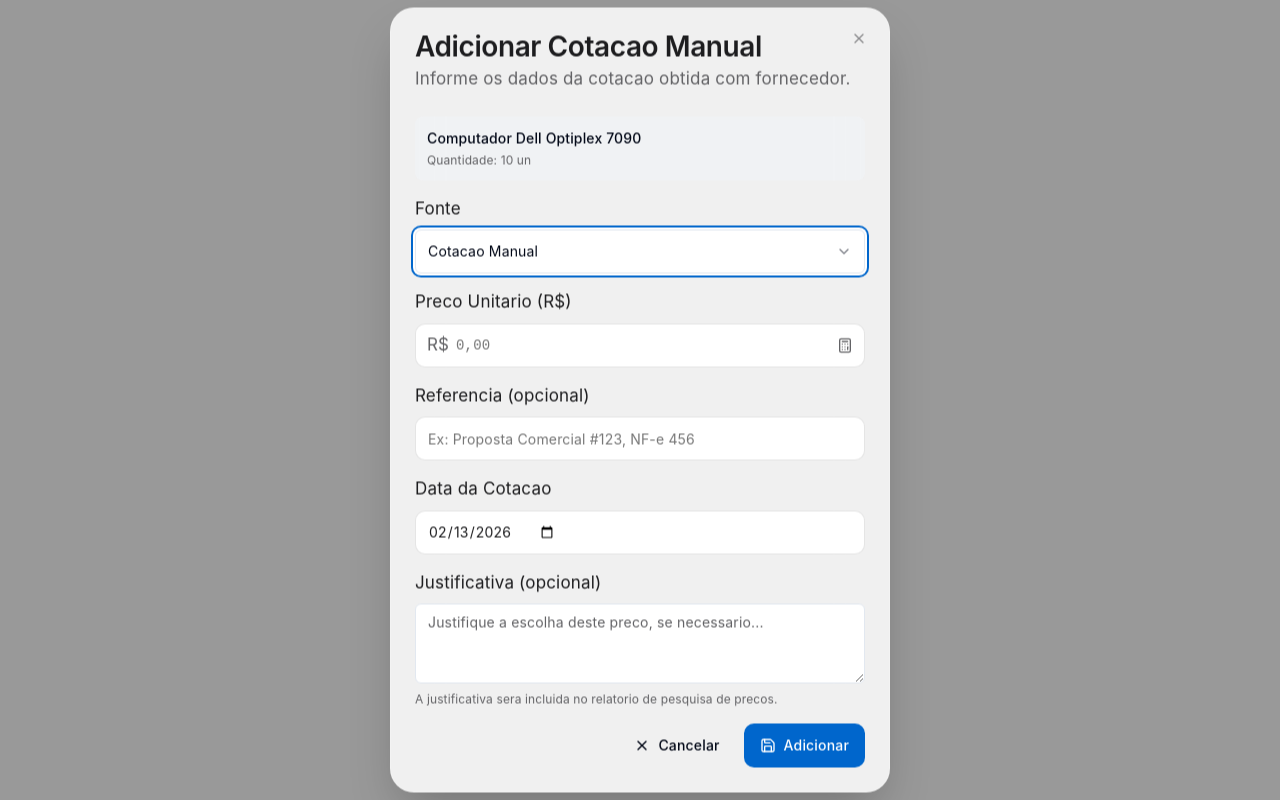
Scenario: PriceEditModal › formats price input with comma as decimal separator
Note: Type with period - should convert to comma
Type "1500.50" into the field with placeholder "0,00" at (640, 345), box [415,323,865,367]
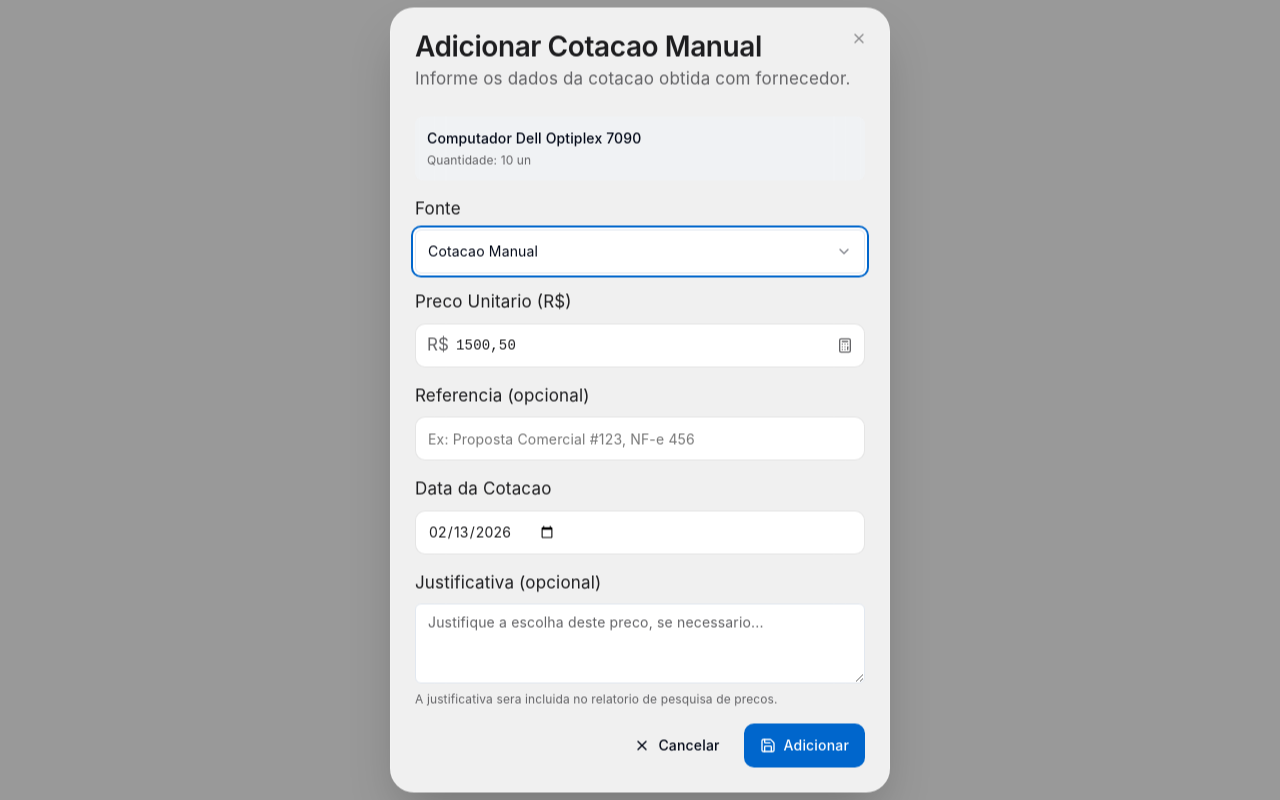
Expected: the field with placeholder "0,00" holds "1500,50", [415,323,865,367]
